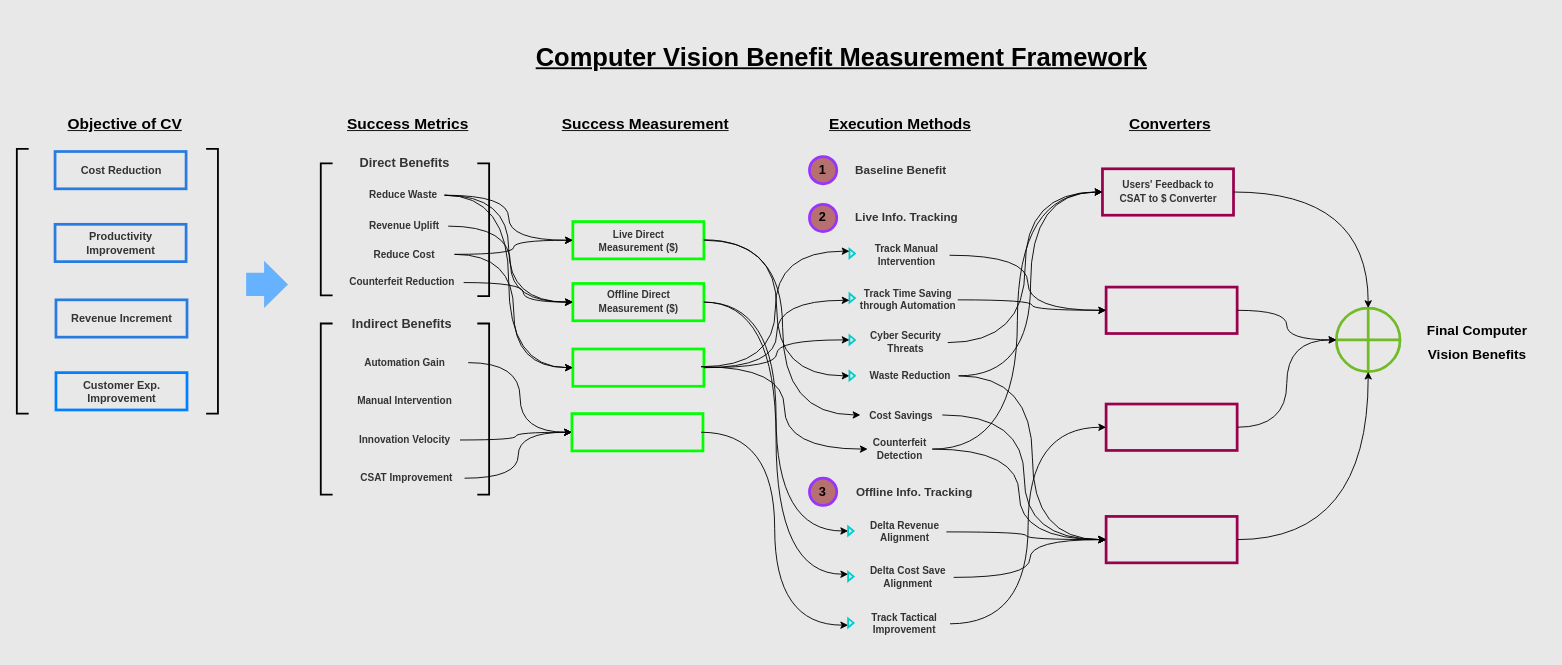
This 1562x665 diagram has some shape labels left out. Here are the shapes that lost their labels. From the top down, the centre of each, then its label:
the point at 1171,309: Hours Saving to $ benefit converter
the point at 638,367: Live Direct Measurement (non-$)
the point at 637,432: Offline Indirect Measure (non-$)
the point at 1171,426: Net $ benefits from IP rights
the point at 1171,539: $ Benefits from Cost Savings & Rev. uplift
